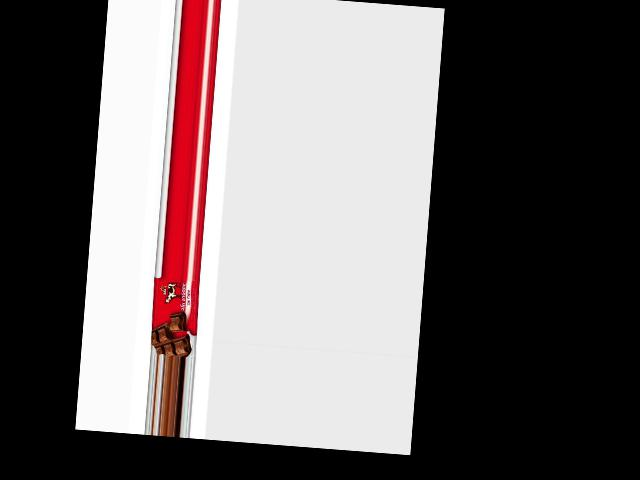chocolate: (149, 276, 200, 356)
